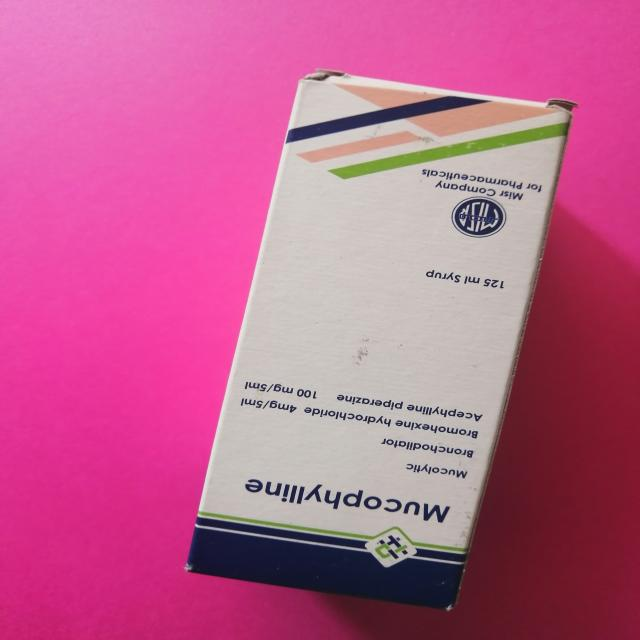Medicine: (178, 65, 582, 616)
